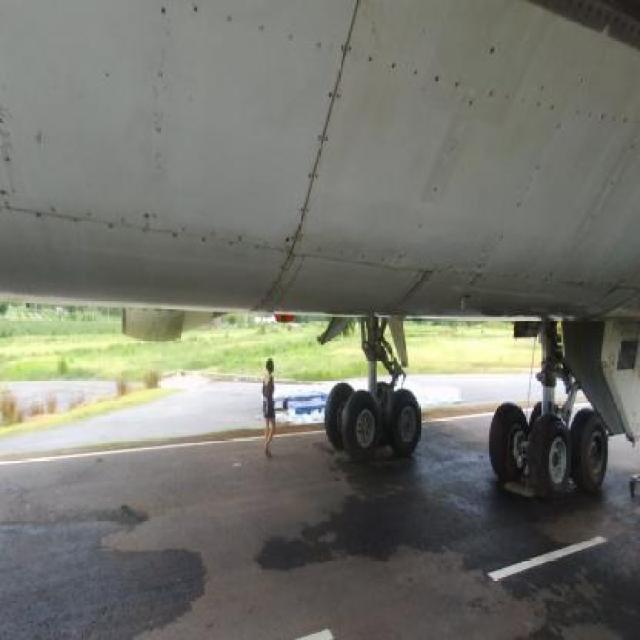Missing-Rivet: (253, 16, 527, 121), (276, 21, 372, 270), (86, 207, 332, 278), (149, 1, 177, 242), (539, 76, 632, 146)
Scartch: (0, 97, 45, 188)
